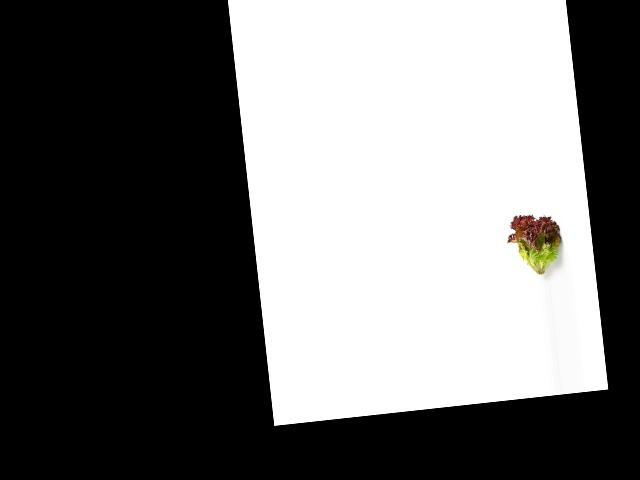lettuce: (506, 207, 567, 285)
